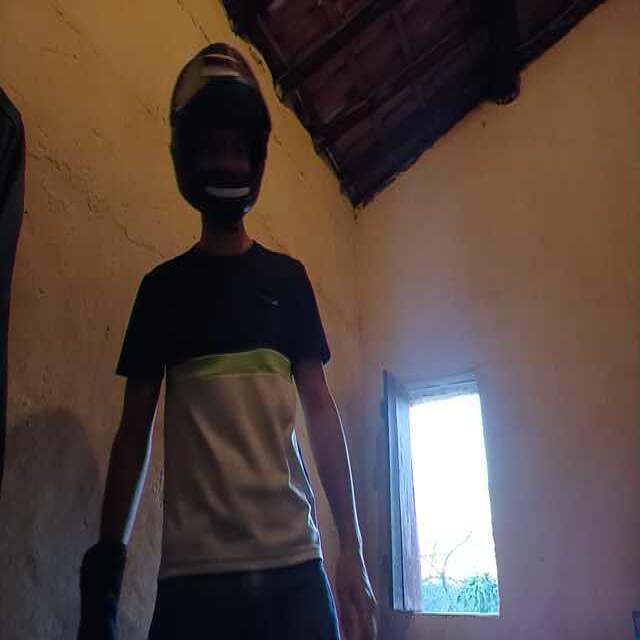capacete: (167, 39, 275, 212)
pessoa: (101, 126, 382, 640)
